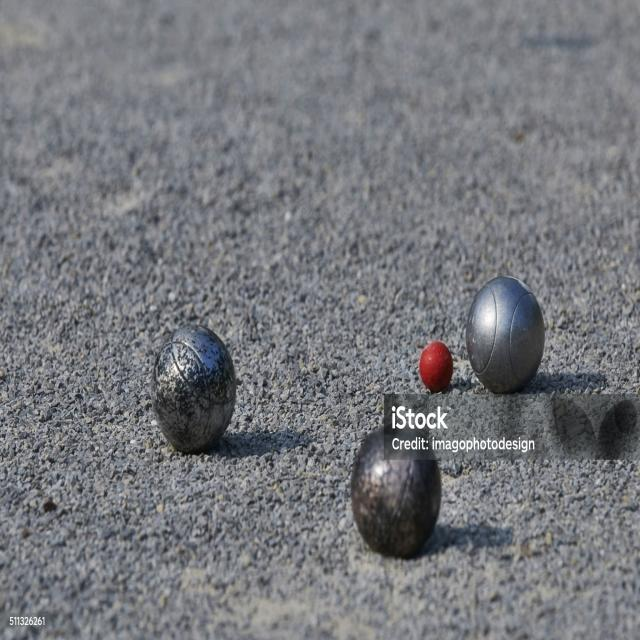hatball: (414, 332, 460, 403)
petanque: (340, 424, 458, 573), (139, 319, 247, 469), (459, 258, 551, 402)
